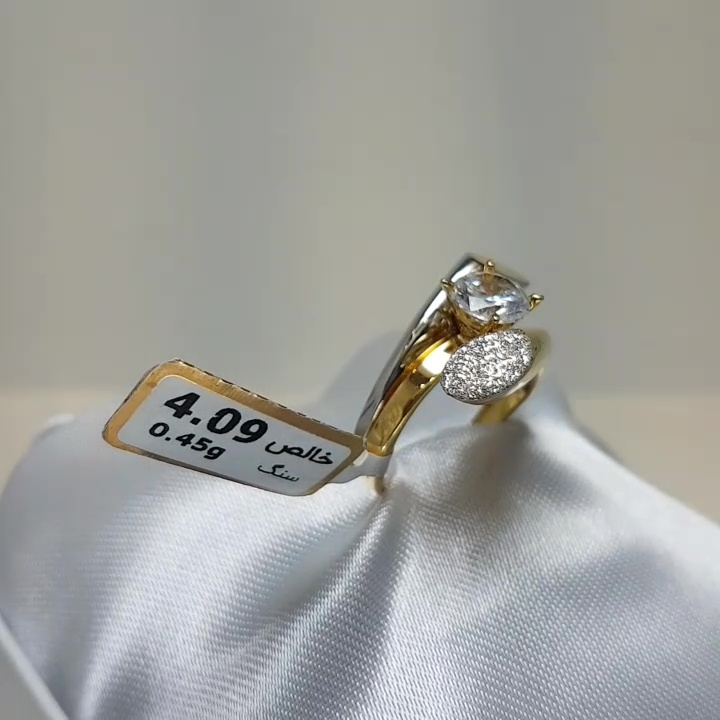Ring 7: (331, 234, 563, 499)
